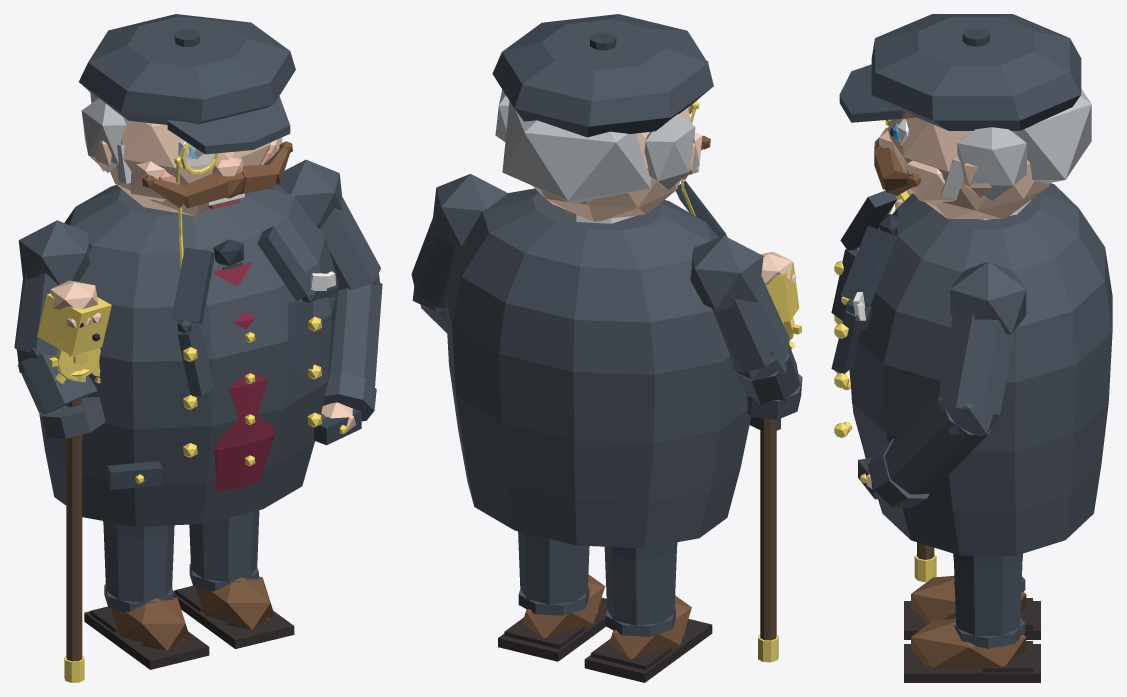
File: richman.glb
3 views of the same model, side by side, from view 1: azimuth 30°, elevation 25°; view 2: azimuth 150°, elevation 25°; view 3: azimuth 270°, elevation 25° (orthographic). The views are drawn at different scales.
Parts seen in each view (by area): view 1: Richman; view 2: Richman; view 3: Richman.
Part boxes in pixels (x1,y1,x2,y2): Richman: [14, 14, 382, 682]; Richman: [411, 14, 802, 682]; Richman: [831, 14, 1112, 682].
Size of the model in its own units: 1.1 by 1.74 by 0.719.
